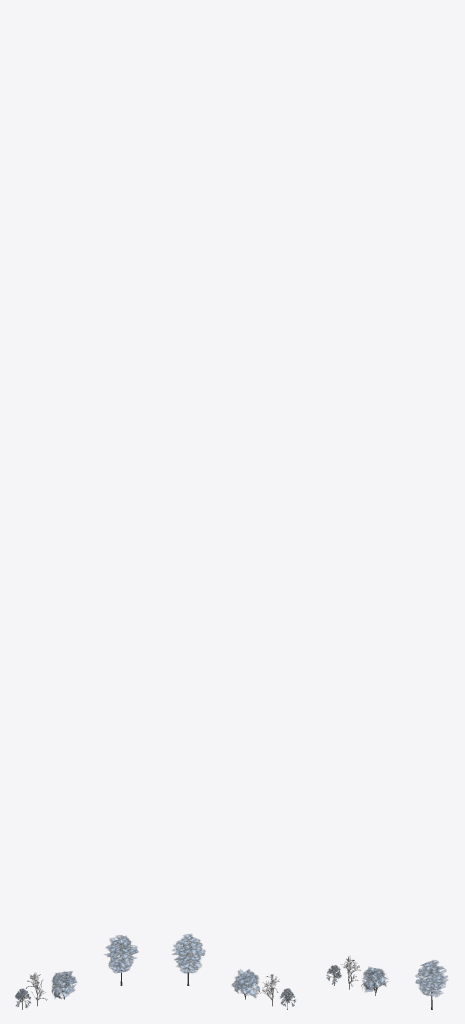
The model's file is hd-puut.glb.
3 views of the same model, side by side, from view 1: azimuth 30°, elevation 25°; view 2: azimuth 150°, elevation 25°; view 3: azimuth 330°, elevation 25° (orthographic).
Visible parts, largest first — view 1: leaves.001, leaves; view 2: leaves.001, leaves; view 3: leaves.001, leaves.
Boxes of the visible parts, left/top/right/bottom form: leaves.001: left=104, top=935, right=138, bottom=973; leaves: left=51, top=971, right=76, bottom=998; leaves.001: left=172, top=934, right=205, bottom=973; leaves: left=232, top=969, right=259, bottom=997; leaves.001: left=415, top=960, right=447, bottom=996; leaves: left=361, top=966, right=388, bottom=992.
Size of the model in its own units: 37.38 by 287 by 9.47.
Materials: 4 (2 with a texture image).
